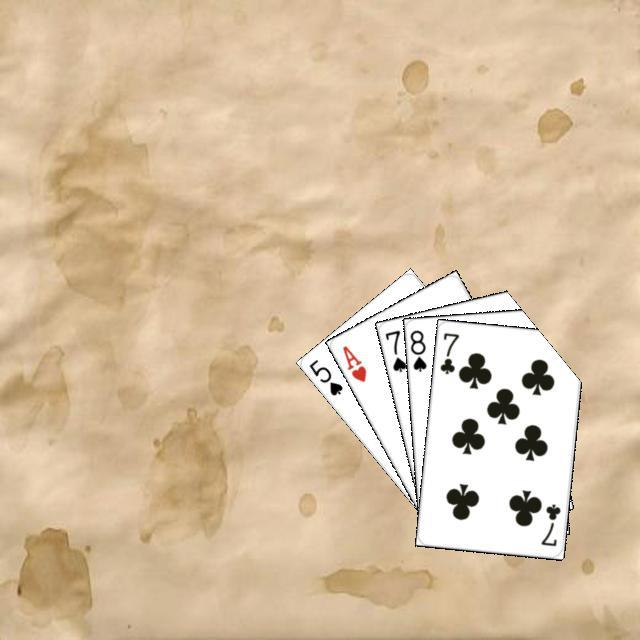5s: (304, 354, 344, 397)
7c: (536, 499, 562, 548), (435, 328, 461, 376)
7s: (380, 325, 408, 374)
8s: (406, 325, 428, 373)
Ah: (337, 341, 368, 384)
